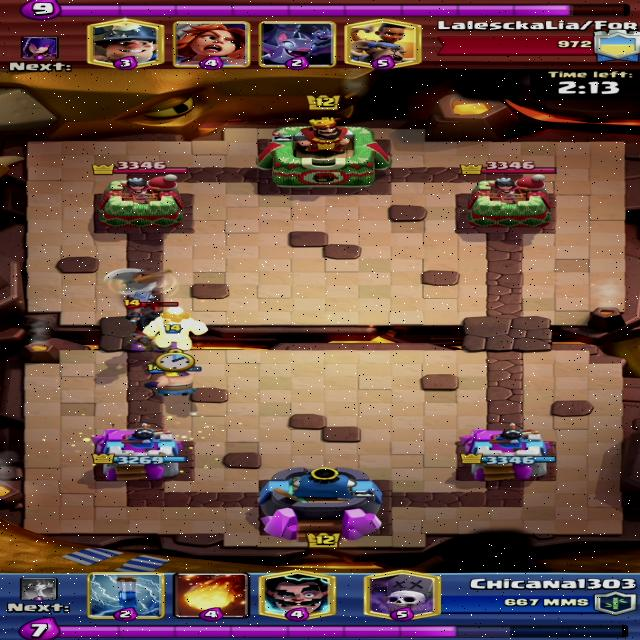Enemy-DarkPrince: (122, 290, 180, 351)
Player-Executioner: (145, 362, 202, 397)
Player-IceGolem: (147, 307, 207, 350)
